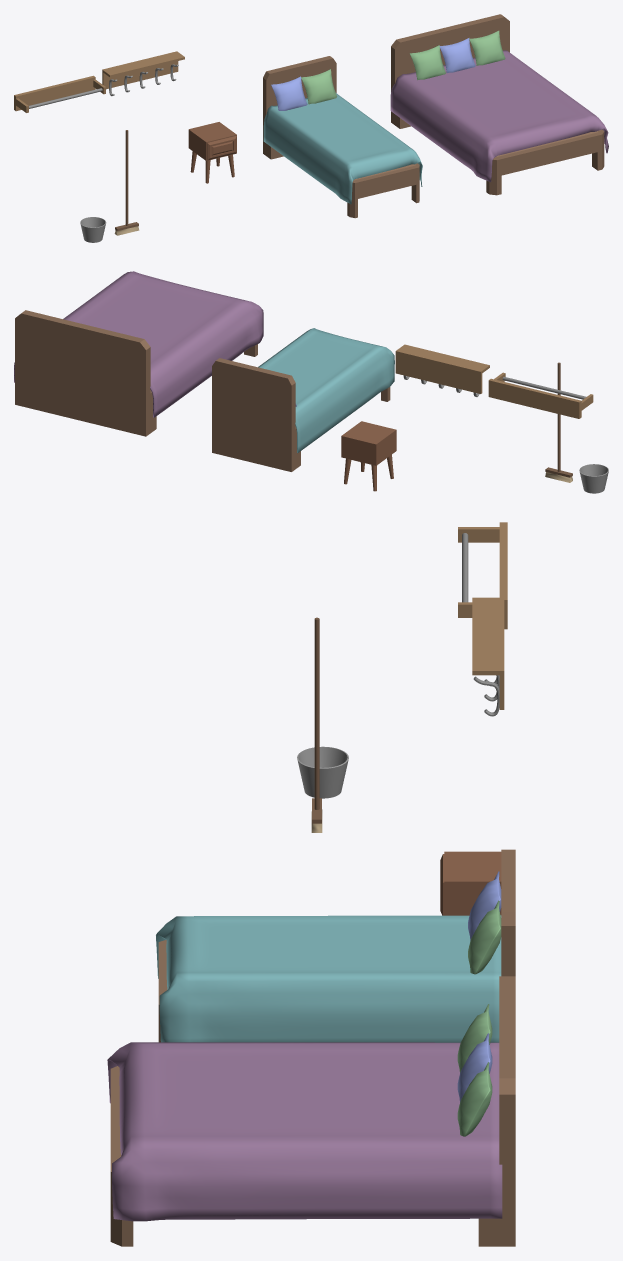
The model's file is BedroomDLC.fbx.
3 renders of one model, top to bottom at view 1: azimuth 30°, elevation 25°; view 2: azimuth 150°, elevation 25°; view 3: azimuth 270°, elevation 25°, orthographic. The views are drawn at different scales.
Visible parts, largest first — view 1: BedSheetBig, BedSheetSmall, BedFrameBig, BedFrameSmall, BedSideTable, CoatHanger2, CoatHanger1, Pillow5, Pillow4, Pillow2, Pillow3, Pillow1 (+3 smaller); view 2: BedSheetBig, BedFrameBig, BedSheetSmall, BedFrameSmall, CoatHanger2, BedSideTable, CoatHanger1, Bucket, Broom, CoathangerMetallic1; view 3: BedSheetBig, BedSheetSmall, BedFrameBig, BedSideTable, CoatHanger2, BedFrameSmall, Bucket, CoatHanger1, Pillow5, Pillow2, Broom, Pillow4 (+2 smaller).
Part boxes in pixels (x1=…): BedSheetBig: x1=390, y1=50, x2=608, y2=182; BedSheetSmall: x1=263, y1=93, x2=422, y2=204; BedFrameBig: x1=391, y1=14, x2=604, y2=195; BedFrameSmall: x1=263, y1=56, x2=419, y2=218; BedSideTable: x1=188, y1=122, x2=236, y2=183; CoatHanger2: x1=102, y1=51, x2=184, y2=89; CoatHanger1: x1=14, y1=75, x2=105, y2=112; Pillow5: x1=469, y1=30, x2=505, y2=65; Pillow4: x1=439, y1=38, x2=475, y2=72; Pillow2: x1=301, y1=69, x2=337, y2=104; Pillow3: x1=409, y1=45, x2=445, y2=80; Pillow1: x1=271, y1=76, x2=307, y2=110; BedSheetBig: x1=14, y1=271, x2=263, y2=417; BedFrameBig: x1=15, y1=310, x2=257, y2=436; BedSheetSmall: x1=258, y1=328, x2=394, y2=452; BedFrameSmall: x1=212, y1=358, x2=390, y2=471; CoatHanger2: x1=395, y1=344, x2=489, y2=393; BedSideTable: x1=341, y1=421, x2=396, y2=491; CoatHanger1: x1=488, y1=372, x2=593, y2=418; Bucket: x1=579, y1=464, x2=608, y2=493; Broom: x1=545, y1=362, x2=572, y2=482; CoathangerMetallic1: x1=502, y1=376, x2=586, y2=399; BedSheetBig: x1=107, y1=1042, x2=502, y2=1221; BedSheetSmall: x1=156, y1=915, x2=501, y2=1042; BedFrameBig: x1=110, y1=976, x2=515, y2=1246; BedSideTable: x1=440, y1=851, x2=501, y2=915; CoatHanger2: x1=472, y1=597, x2=504, y2=709; BedFrameSmall: x1=158, y1=849, x2=515, y2=1042; Bucket: x1=297, y1=746, x2=348, y2=798; CoatHanger1: x1=458, y1=522, x2=507, y2=629; Pillow5: x1=457, y1=1062, x2=492, y2=1136; Pillow2: x1=468, y1=900, x2=501, y2=974; Broom: x1=311, y1=617, x2=322, y2=832; Pillow4: x1=457, y1=1033, x2=492, y2=1102.
Bounding box in the file's own units: 663 × 159 × 234.
